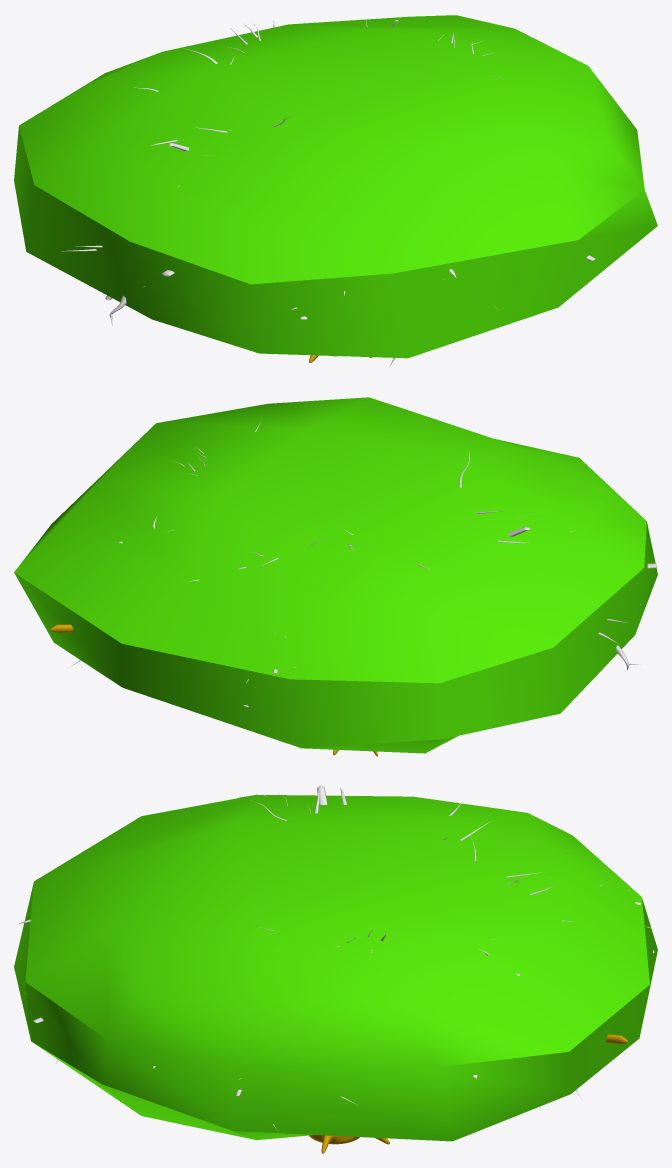
The model's file is tree_model69.fbx.
3 views of the same model, one above another, from view 1: azimuth 30°, elevation 25°; view 2: azimuth 150°, elevation 25°; view 3: azimuth 270°, elevation 25° (orthographic). The views are drawn at different scales.
Visible parts, largest first — view 1: Sphere, tree; view 2: Sphere, tree; view 3: Sphere, tree, Cylinder_1.
Boxes of the visible parts, <box> form: Sphere: <box>14,15,657,358</box>; tree: <box>61,18,595,367</box>; Sphere: <box>14,397,657,753</box>; tree: <box>70,422,656,707</box>; Sphere: <box>14,794,657,1141</box>; tree: <box>19,785,654,1130</box>; Cylinder_1: <box>309,1034,627,1153</box>.
Size of the model in its own units: 2291 by 1156 by 2280.
